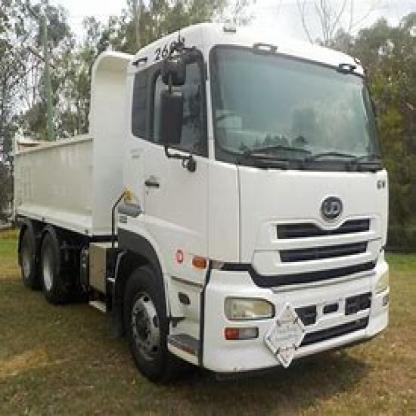dump_truck: (16, 11, 414, 398)
